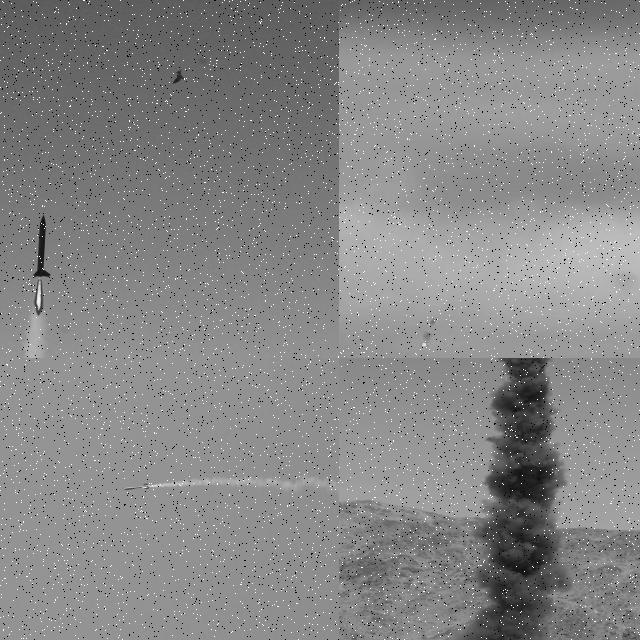Rocket: (33, 215, 51, 277), (419, 316, 438, 343), (124, 483, 150, 490)
